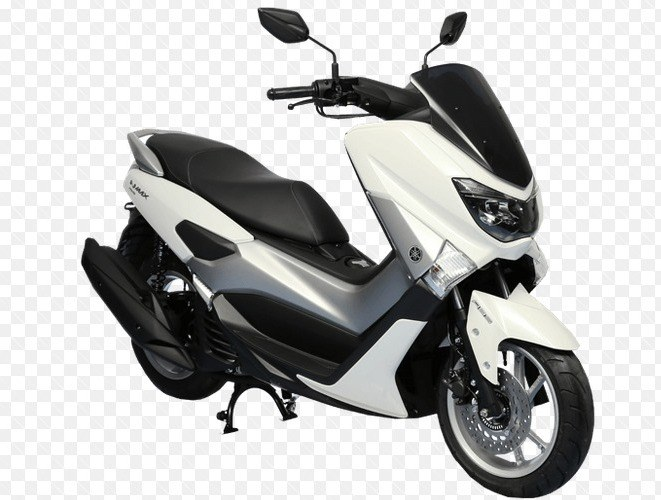motorcycle: (81, 69, 594, 497)
